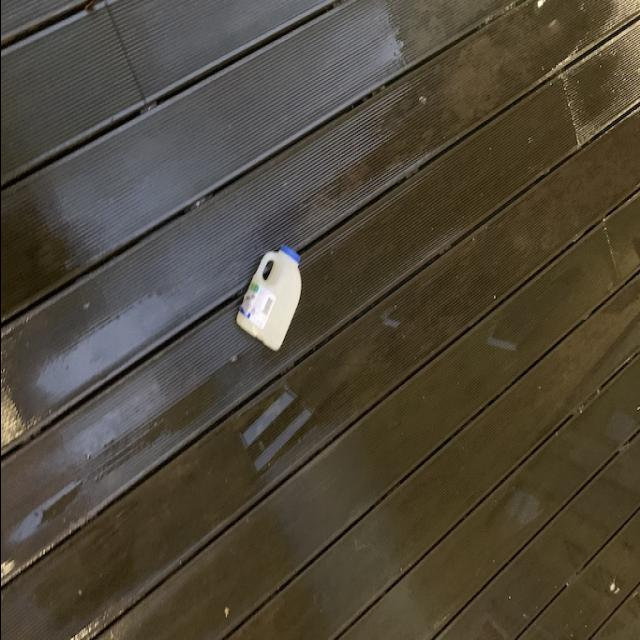litter: (230, 245, 302, 351)
